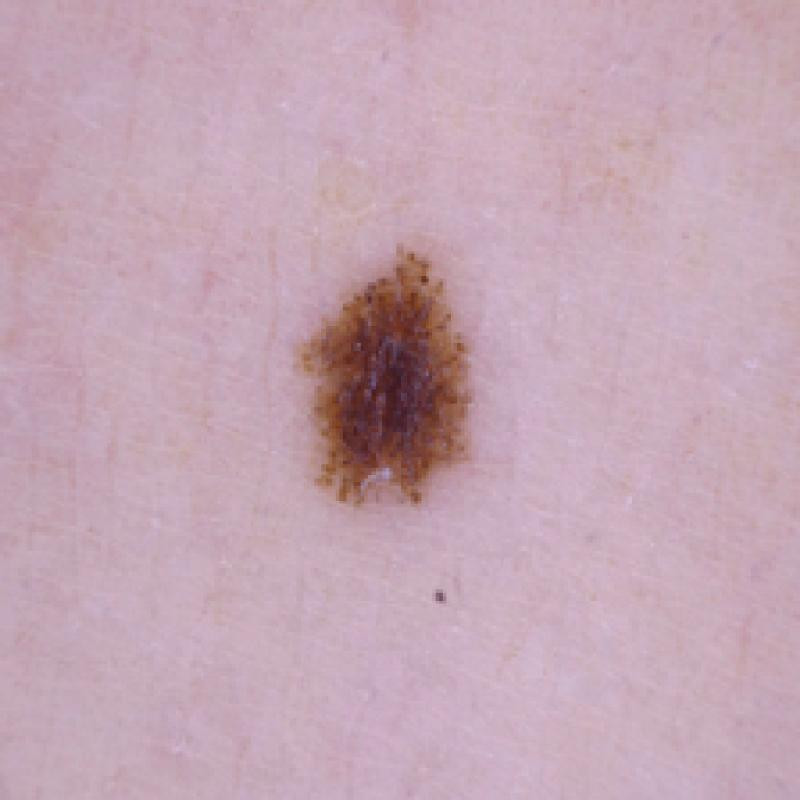benign: (267, 224, 503, 520)
